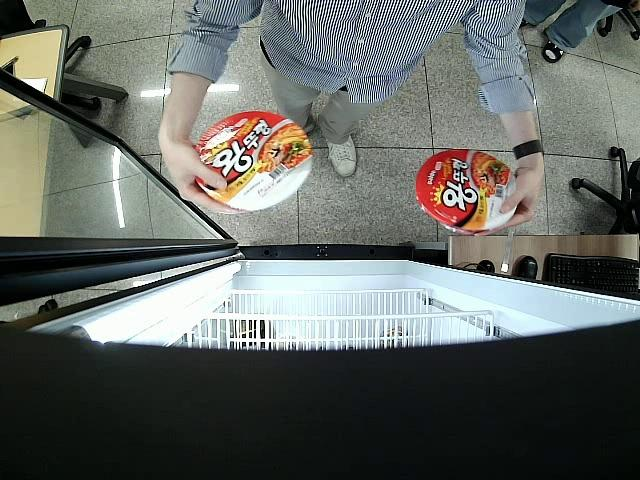00_hand: (160, 142, 247, 216), (453, 172, 538, 239)
10_wangTtukkeong: (199, 112, 310, 210), (415, 148, 518, 233)
